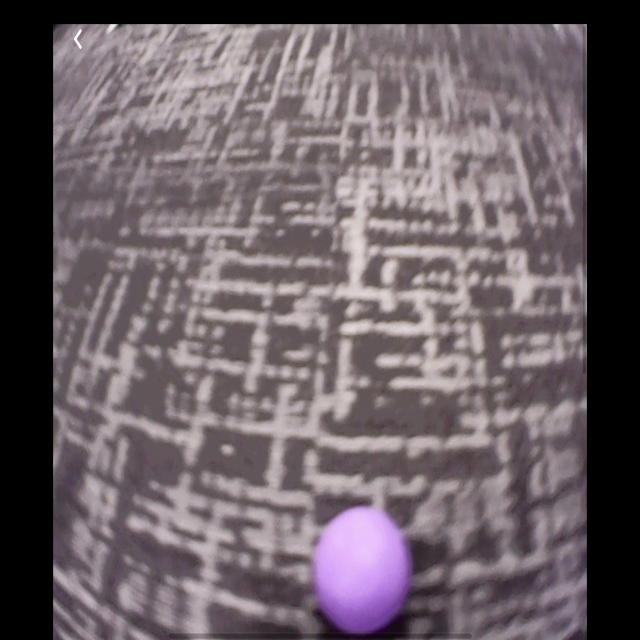ball: (317, 509, 412, 635)
